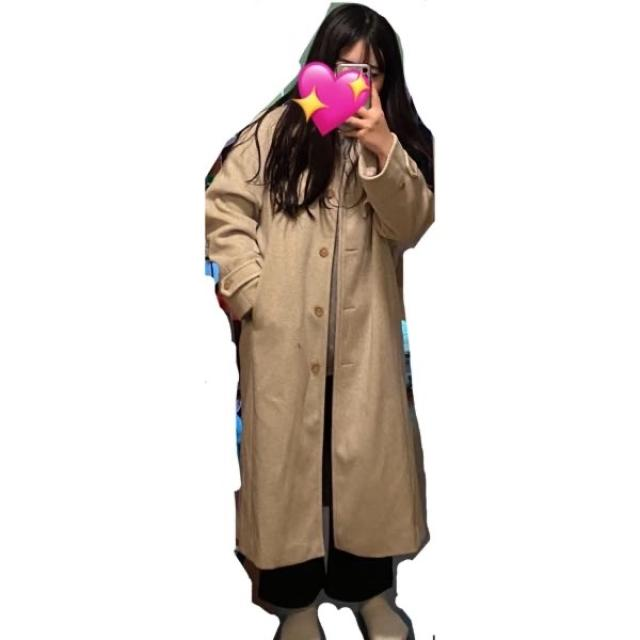coat: (206, 100, 434, 570)
